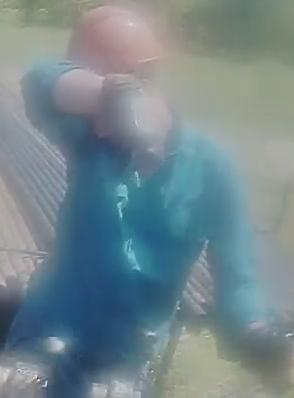gloves: (86, 74, 174, 188), (237, 318, 294, 398)
helmet: (62, 2, 172, 74)
vest: (61, 129, 241, 364)
